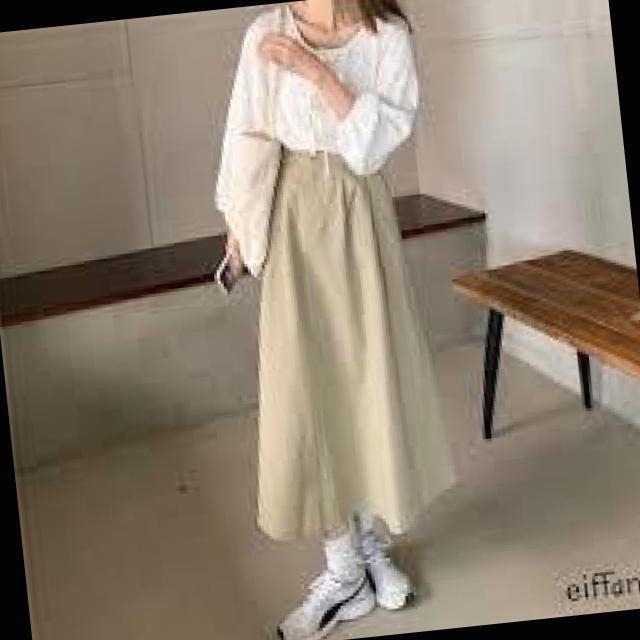skirt: (220, 133, 484, 569)
sweater: (189, 0, 433, 234)
